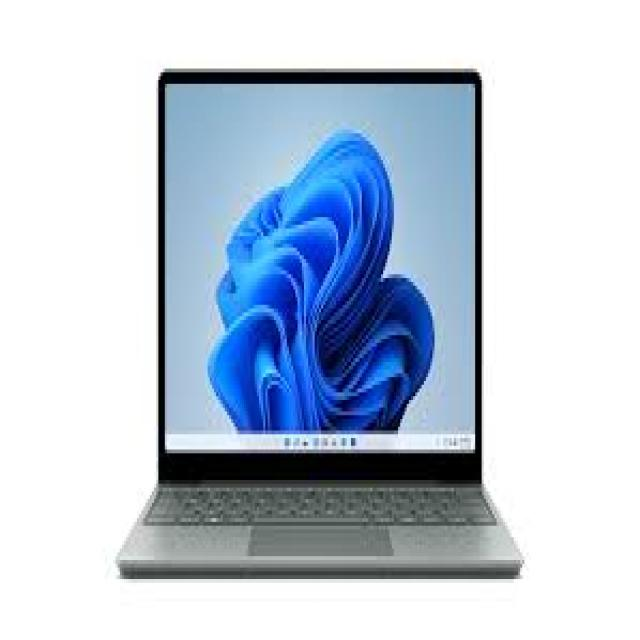others: (105, 42, 522, 583)
